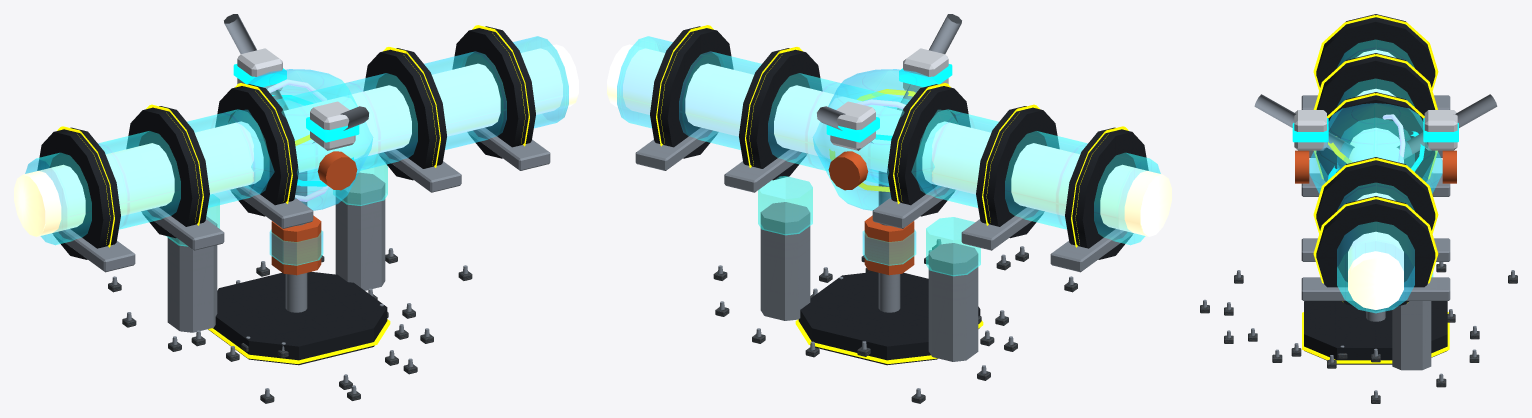
The model's file is interior_setpiece_03_r1_03.glb.
3 views of the same model, side by side, from view 1: azimuth 30°, elevation 25°; view 2: azimuth 150°, elevation 25°; view 3: azimuth 270°, elevation 25° (orthographic). The views are drawn at different scales.
Visible parts, largest first — view 1: Setpiece03_C03_gunmetal, Setpiece03_C03_glass_cyan, Setpiece03_C03_sky_golden_core, Setpiece03_C03_steel_machined, Setpiece03_C03_accent_orange, Setpiece03_C03_led_amber, Setpiece03_C03_aero_white, Setpiece03_C03_glass_emerald, Setpiece03_C03_cliff_basalt, Setpiece03_C03_led_cyan, Setpiece03_C03_led_uv; view 2: Setpiece03_C03_glass_cyan, Setpiece03_C03_gunmetal, Setpiece03_C03_sky_golden_core, Setpiece03_C03_steel_machined, Setpiece03_C03_glass_emerald, Setpiece03_C03_accent_orange, Setpiece03_C03_led_amber, Setpiece03_C03_aero_white, Setpiece03_C03_cliff_basalt, Setpiece03_C03_led_cyan; view 3: Setpiece03_C03_gunmetal, Setpiece03_C03_glass_cyan, Setpiece03_C03_steel_machined, Setpiece03_C03_sky_golden_core, Setpiece03_C03_led_amber, Setpiece03_C03_aero_white, Setpiece03_C03_cliff_basalt, Setpiece03_C03_led_cyan, Setpiece03_C03_accent_orange, Setpiece03_C03_led_uv.
Boxes of the visible parts, box(x1,y1,x2,y2) form: Setpiece03_C03_gunmetal: box(37, 26, 535, 365); Setpiece03_C03_glass_cyan: box(25, 36, 568, 265); Setpiece03_C03_sky_golden_core: box(14, 44, 578, 236); Setpiece03_C03_steel_machined: box(52, 14, 550, 396); Setpiece03_C03_accent_orange: box(271, 151, 357, 275); Setpiece03_C03_led_amber: box(57, 25, 529, 363); Setpiece03_C03_aero_white: box(237, 48, 355, 150); Setpiece03_C03_glass_emerald: box(166, 154, 387, 246); Setpiece03_C03_cliff_basalt: box(108, 254, 472, 403); Setpiece03_C03_led_cyan: box(233, 64, 359, 186); Setpiece03_C03_led_uv: box(267, 79, 328, 201); Setpiece03_C03_glass_cyan: box(617, 36, 1160, 265); Setpiece03_C03_gunmetal: box(650, 26, 1148, 365); Setpiece03_C03_sky_golden_core: box(607, 44, 1171, 236); Setpiece03_C03_steel_machined: box(635, 14, 1133, 396); Setpiece03_C03_glass_emerald: box(758, 176, 980, 276); Setpiece03_C03_accent_orange: box(828, 151, 914, 275); Setpiece03_C03_led_amber: box(656, 25, 1128, 363); Setpiece03_C03_aero_white: box(830, 48, 948, 150); Setpiece03_C03_cliff_basalt: box(713, 245, 1077, 403); Setpiece03_C03_led_cyan: box(826, 64, 952, 142); Setpiece03_C03_gunmetal: box(1304, 14, 1447, 364); Setpiece03_C03_glass_cyan: box(1309, 39, 1442, 313); Setpiece03_C03_steel_machined: box(1202, 94, 1515, 397); Setpiece03_C03_sky_golden_core: box(1348, 50, 1403, 309); Setpiece03_C03_led_amber: box(1302, 15, 1449, 363); Setpiece03_C03_aero_white: box(1294, 110, 1457, 150); Setpiece03_C03_cliff_basalt: box(1200, 264, 1517, 403); Setpiece03_C03_led_cyan: box(1292, 118, 1458, 179); Setpiece03_C03_accent_orange: box(1295, 150, 1456, 183); Setpiece03_C03_led_uv: box(1382, 114, 1405, 163).
Bounding box in the file's own units: 54 × 25.79 × 30.99.
11 materials, 11 textured.
